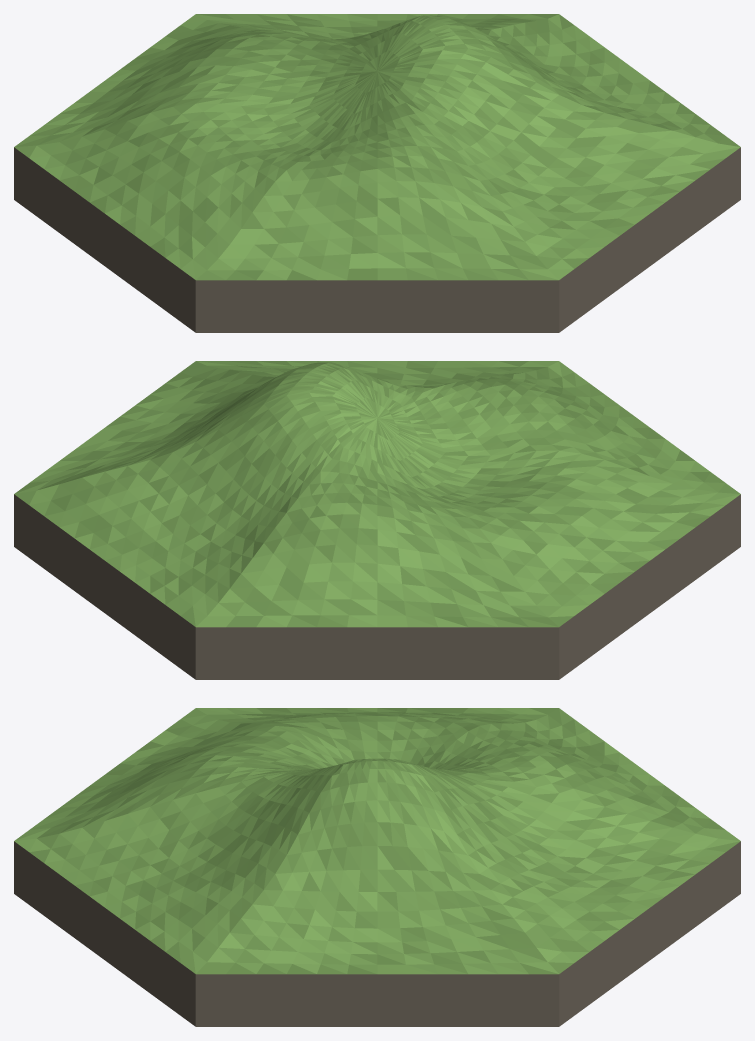
File: TERRAIN_GRASS_HILLS_v00.fbx
3 views of the same model, one above another, from view 1: azimuth 30°, elevation 25°; view 2: azimuth 150°, elevation 25°; view 3: azimuth 270°, elevation 25° (orthographic).
Visible parts, largest first — view 1: TERRAIN_GRASS_HILLS_v00; view 2: TERRAIN_GRASS_HILLS_v00; view 3: TERRAIN_GRASS_HILLS_v00.
Part boxes in pixels (bbox=[...]): TERRAIN_GRASS_HILLS_v00: bbox=[14, 14, 740, 332]; TERRAIN_GRASS_HILLS_v00: bbox=[14, 361, 740, 679]; TERRAIN_GRASS_HILLS_v00: bbox=[14, 708, 740, 1026].
Size of the model in its own units: 173 by 48.04 by 200.
